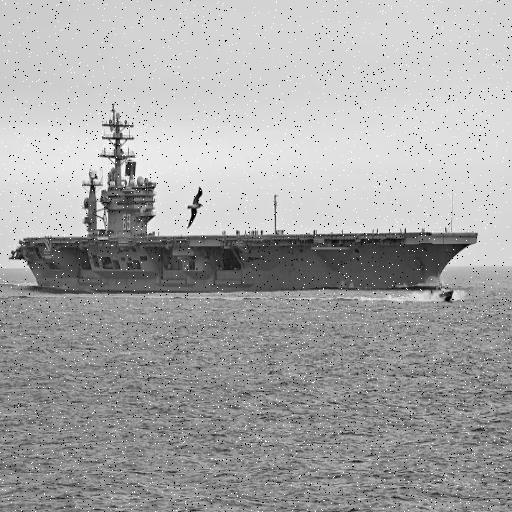Portanaves: (10, 97, 482, 296)
